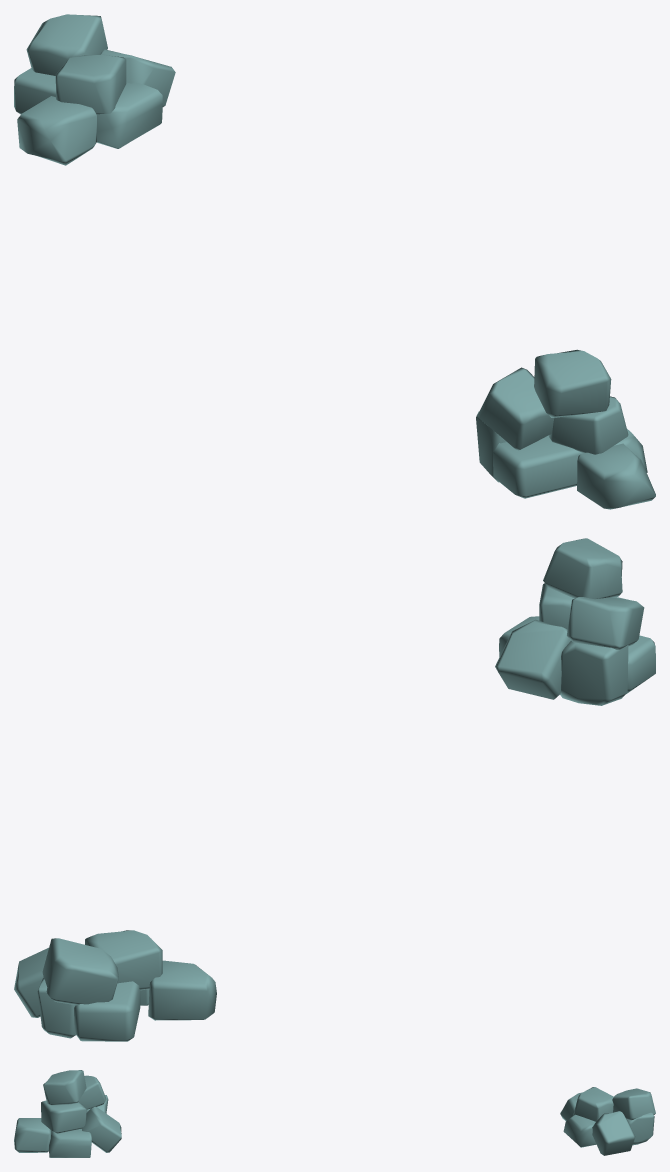
File: Beam_Structure_19C_Lod0.fbx
3 renders of one model, top to bottom at view 1: azimuth 30°, elevation 25°; view 2: azimuth 150°, elevation 25°; view 3: azimuth 270°, elevation 25°, orthographic. The views are drawn at different scales.
Parts seen in each view (by area): view 1: Beam_Structure_19C_Lod0; view 2: Beam_Structure_19C_Lod0; view 3: Beam_Structure_19C_Lod0.
Part boxes in pixels (left/top/right/bottom): Beam_Structure_19C_Lod0: left=14, top=14, right=655, bottom=509; Beam_Structure_19C_Lod0: left=14, top=538, right=655, bottom=1041; Beam_Structure_19C_Lod0: left=14, top=1070, right=655, bottom=1157.
Bounding box in the file's own units: 119 × 81.85 × 680.
